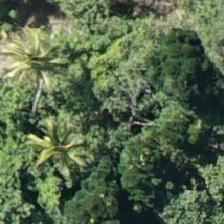coconut_tree: (0, 84, 77, 174), (0, 26, 77, 116)
